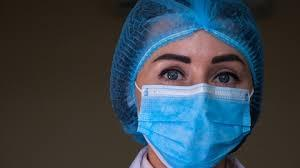Wearing Mask: (126, 8, 268, 168)
